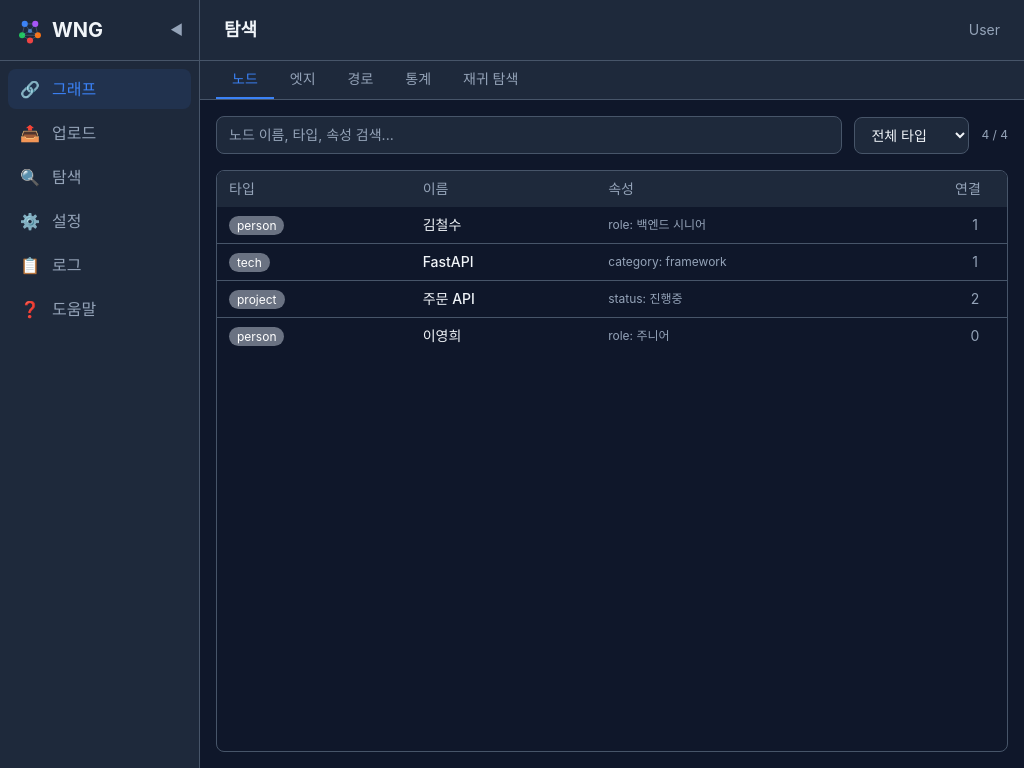
Test: QueryPage › switches to stats tab and shows summary
The width and height of the screenshot is (1024, 768).
Step 1. Click the button "통계" → (418, 80), box [389,61,447,99]
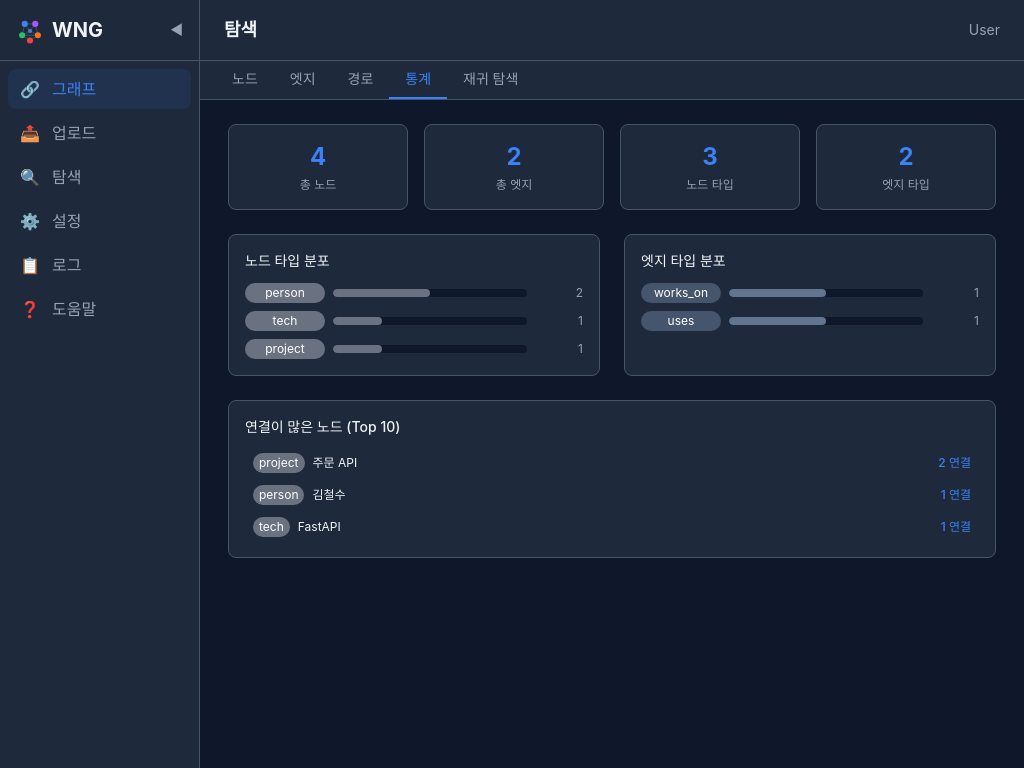
Now the text "총 노드" is shown, box [300,177,336,192]
Now the text "총 엣지" is shown, box [496,177,532,192]
Now the heading "노드 타입 분포" is shown, box [245,252,330,269]
